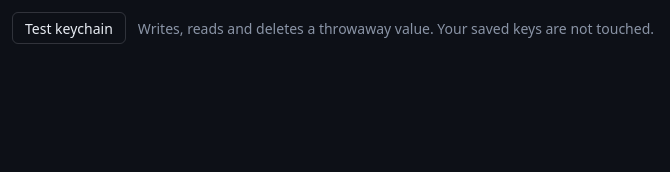
it: KeychainTest › runs the self test and shows success
Click the button "Test keychain". click: (69, 28)
box: [12,12,126,44]
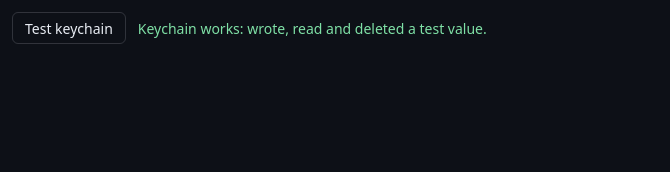
Expected: the text "Keychain works: wrote, read and deleted a test value." is shown, [138,18,487,38]
